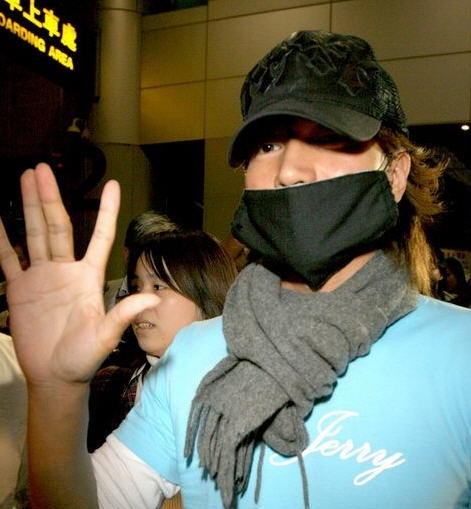face: (126, 253, 195, 351)
face_mask: (245, 87, 382, 266)
